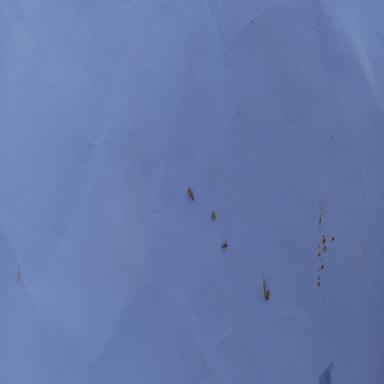pbw: (188, 188, 194, 200), (222, 243, 228, 247)
